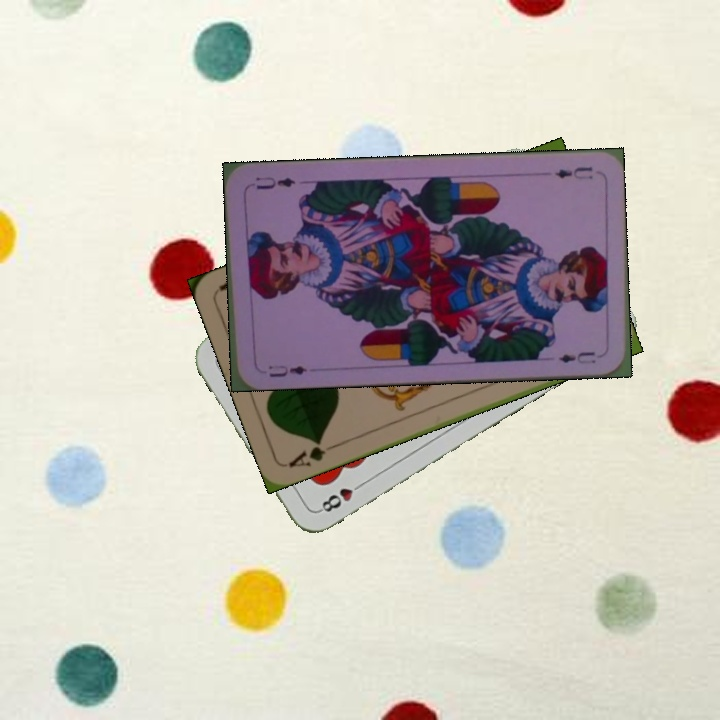EU: (550, 162, 596, 182), (264, 361, 310, 380)
GA: (284, 435, 340, 470)
H8: (314, 477, 367, 515)
